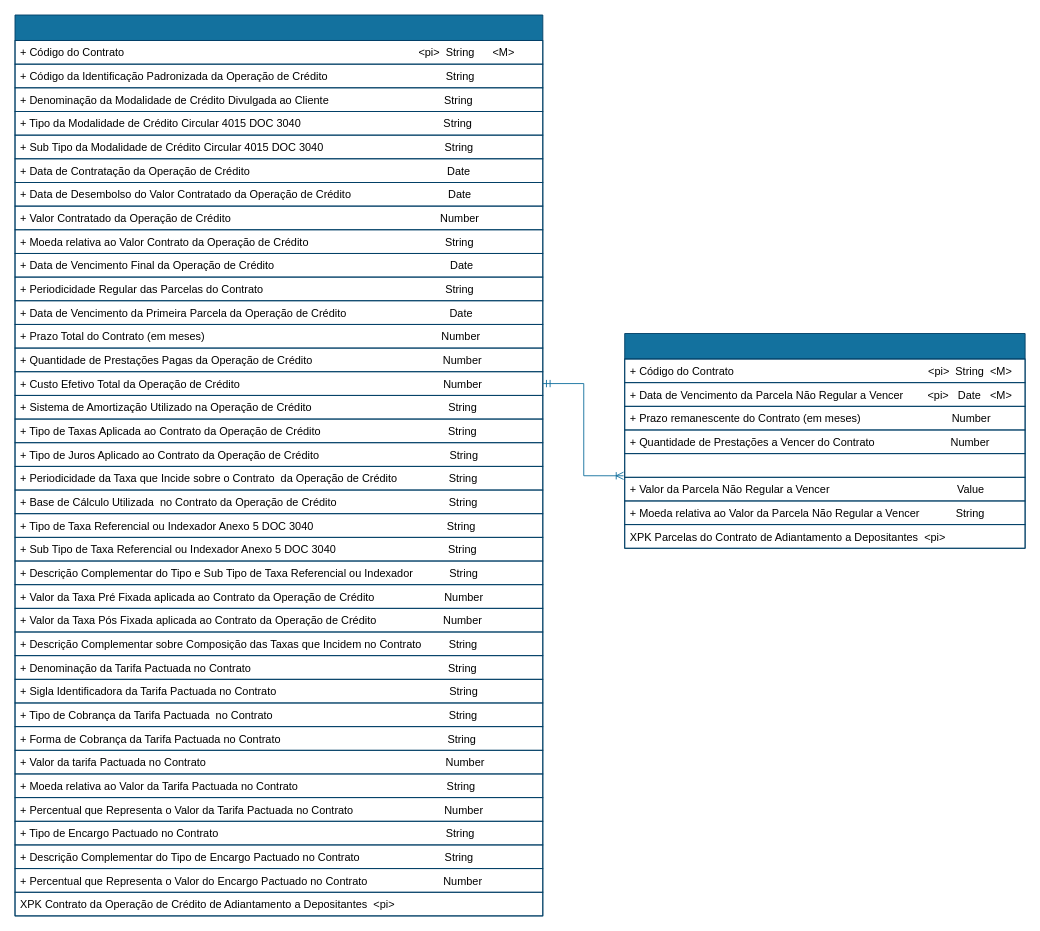
Some shapes in this 1040 by 931 pixel diagram are drawn without their labels. Each missing label, with the box of its shape:
+ Quantidade de Prestações Vencidas do Contrato Number: (624, 453, 1025, 477)
Contrato da Operação de Crédito de Adiantamento a Depositnates: (14, 14, 543, 916)
Parcelas do Contrato da Operação de Adiantamento a Depositantes: (624, 333, 1025, 548)
